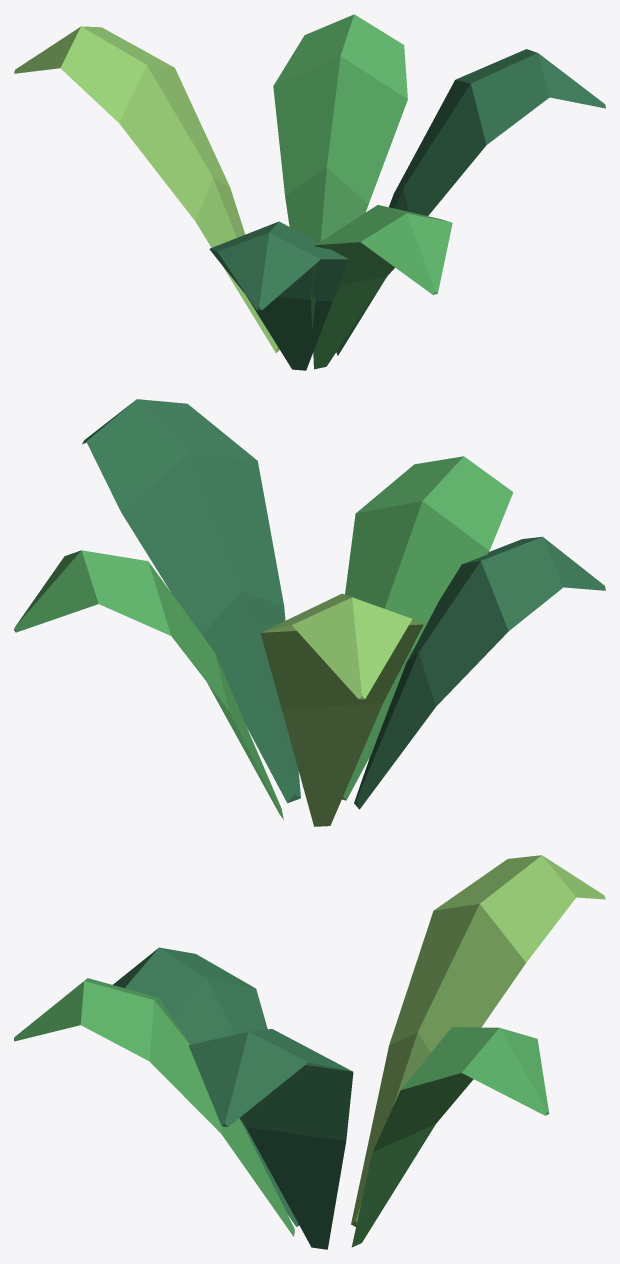
File: plant_broadleaf_c.glb
3 views of the same model, one above another, from view 1: azimuth 30°, elevation 25°; view 2: azimuth 150°, elevation 25°; view 3: azimuth 270°, elevation 25° (orthographic). The views are drawn at different scales.
Parts seen in each view (by area): view 1: PlantBroadleafC; view 2: PlantBroadleafC; view 3: PlantBroadleafC.
Boxes of the visible parts, x1,y1,x2,y2 form: PlantBroadleafC: (14,14,605,370); PlantBroadleafC: (14,399,605,826); PlantBroadleafC: (14,855,605,1249).
Size of the model in its own units: 1.36 by 0.8958 by 1.54.
